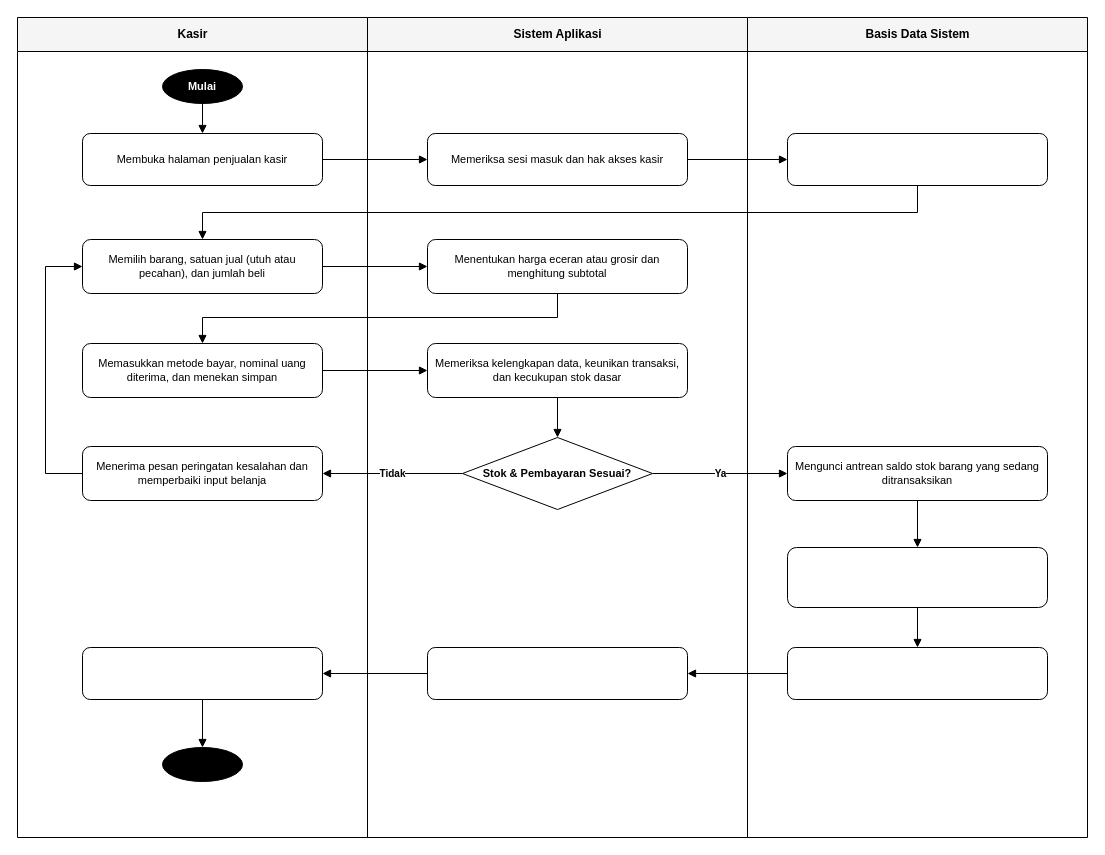
This 1105x855 diagram has some shape labels left out. The centre of each missing label's shape, as x and y in pixels:
Menerima bukti transaksi dan mencetak struk pembayaran: (x=202, y=673)
Menyediakan daftar barang aktif, satuan jual, harga, dan saldo stok: (x=917, y=159)
Menyiapkan rincian nota penjualan dan format cetak struk: (x=557, y=673)
Menyimpan catatan jejak aktivitas dan mengesahkan transaksi: (x=917, y=673)
Menyimpan nota penjualan, memotong saldo stok gudang, dan mencatat mutasi: (x=917, y=577)
Selesai: (x=202, y=764)
